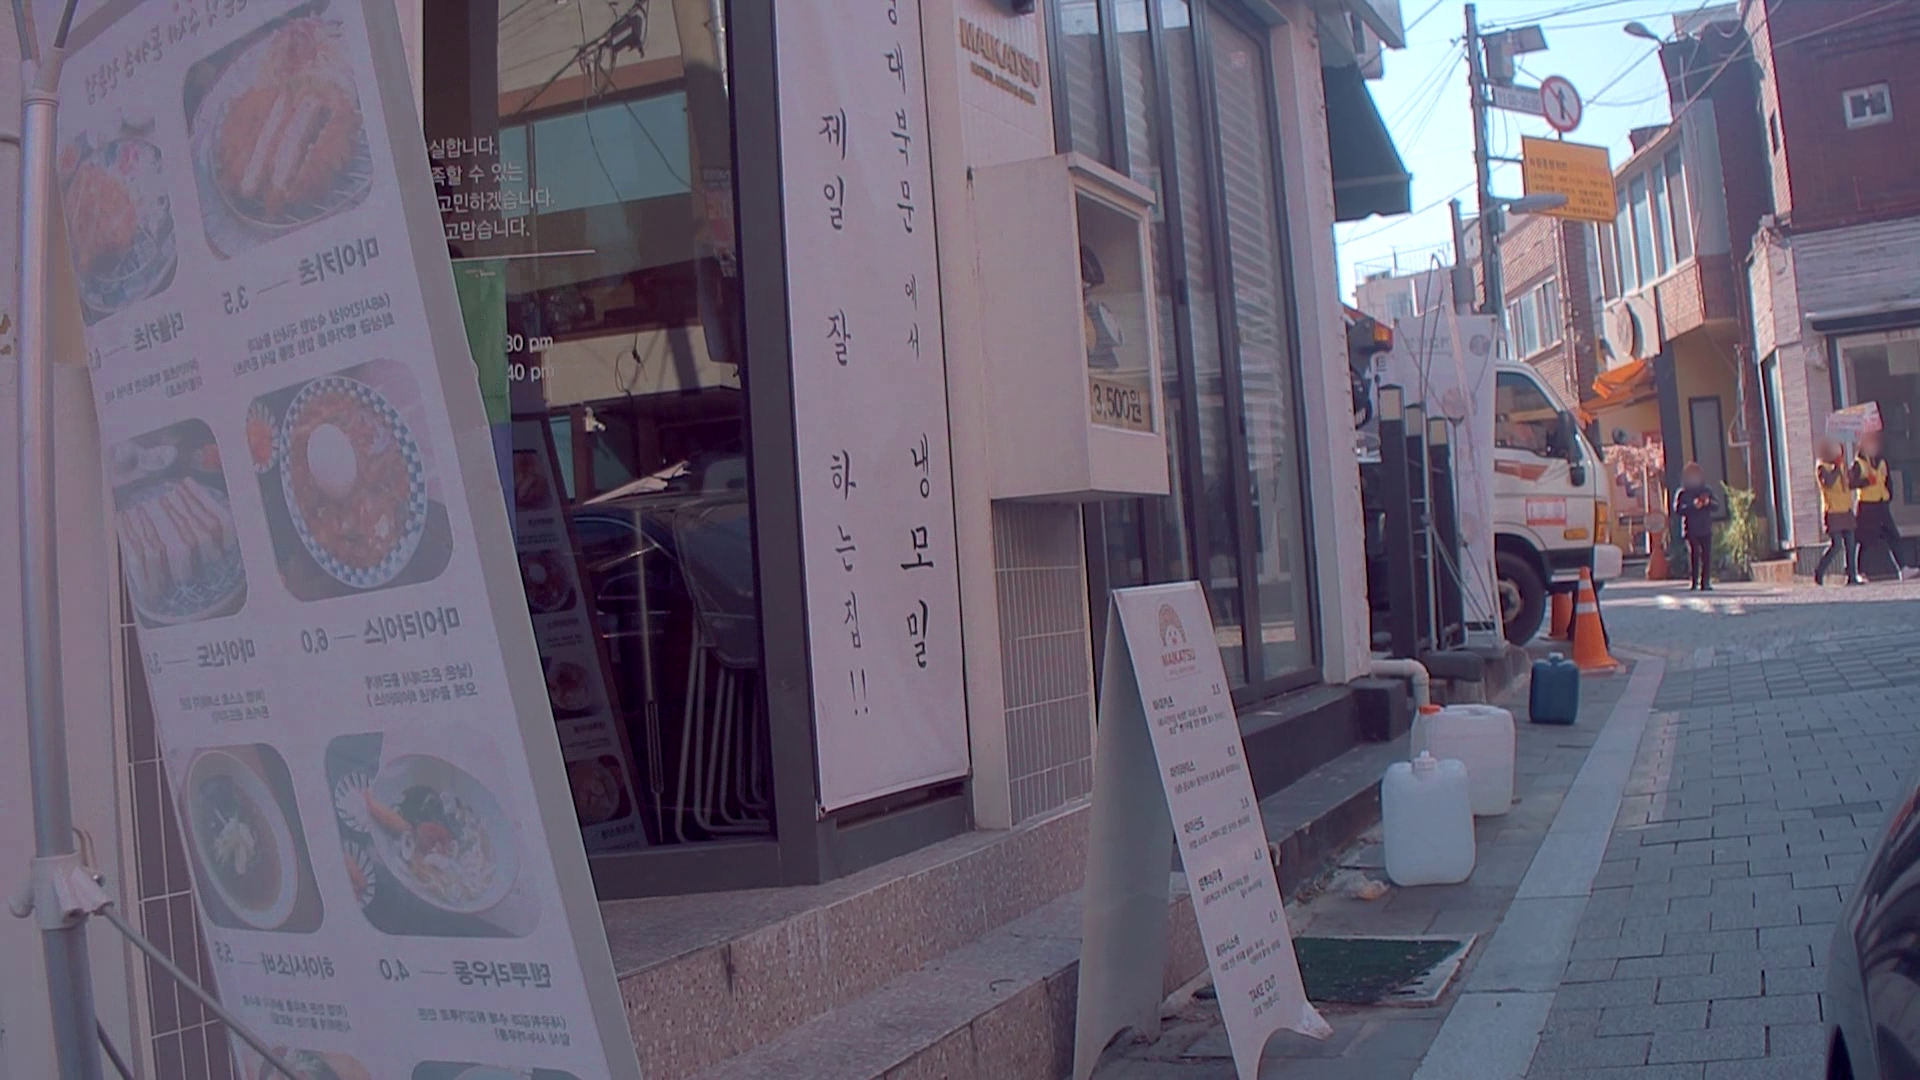trafficSignCircle: (1540, 73, 1581, 135)
